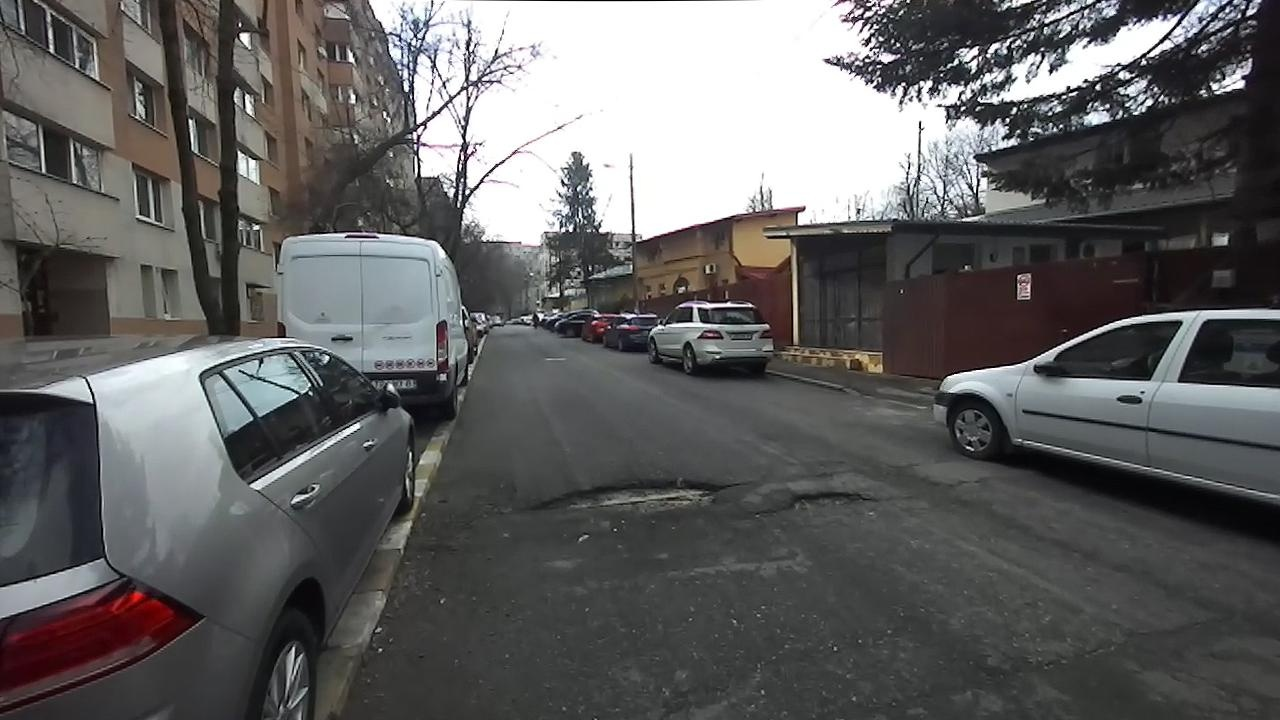pothole: (517, 473, 748, 523), (751, 487, 879, 520)
